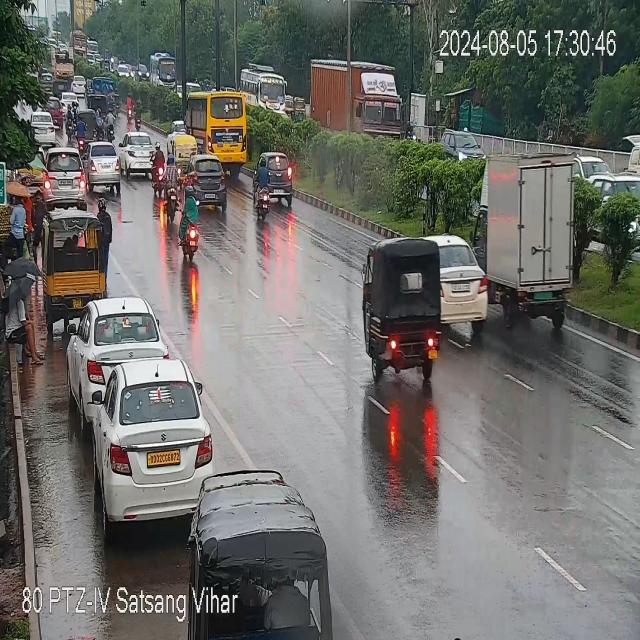2-wheelers: (178, 190, 200, 259), (161, 154, 182, 218), (256, 156, 276, 218), (152, 140, 166, 197), (105, 109, 116, 140), (96, 109, 105, 141), (125, 93, 134, 121), (76, 118, 84, 149), (134, 99, 142, 127), (66, 105, 72, 142), (72, 99, 77, 132), (114, 89, 120, 113)
auto: (185, 463, 317, 640), (364, 237, 447, 374), (43, 217, 111, 311), (245, 72, 294, 112), (172, 135, 198, 162), (78, 108, 97, 140)
bus: (187, 92, 250, 164), (151, 54, 178, 91), (68, 30, 86, 53), (86, 38, 98, 58)
car: (90, 360, 212, 529), (69, 298, 164, 396), (439, 238, 489, 362), (44, 149, 90, 206), (185, 157, 227, 211), (255, 152, 295, 200), (121, 133, 163, 175), (441, 128, 485, 168), (86, 147, 121, 194), (29, 112, 59, 146), (577, 151, 606, 182), (44, 99, 64, 123), (166, 116, 183, 136), (40, 74, 54, 94), (135, 65, 149, 83), (74, 76, 86, 96), (62, 91, 77, 103)
pedestrian: (8, 262, 40, 368), (95, 198, 114, 284), (8, 194, 29, 260)
truck: (481, 133, 600, 321), (308, 61, 415, 144), (50, 47, 74, 81), (87, 74, 107, 106)
